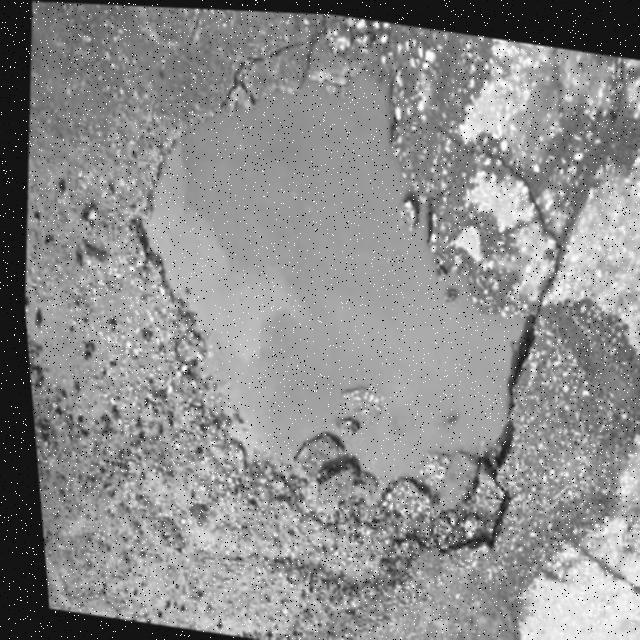pothole: (80, 4, 576, 580)
